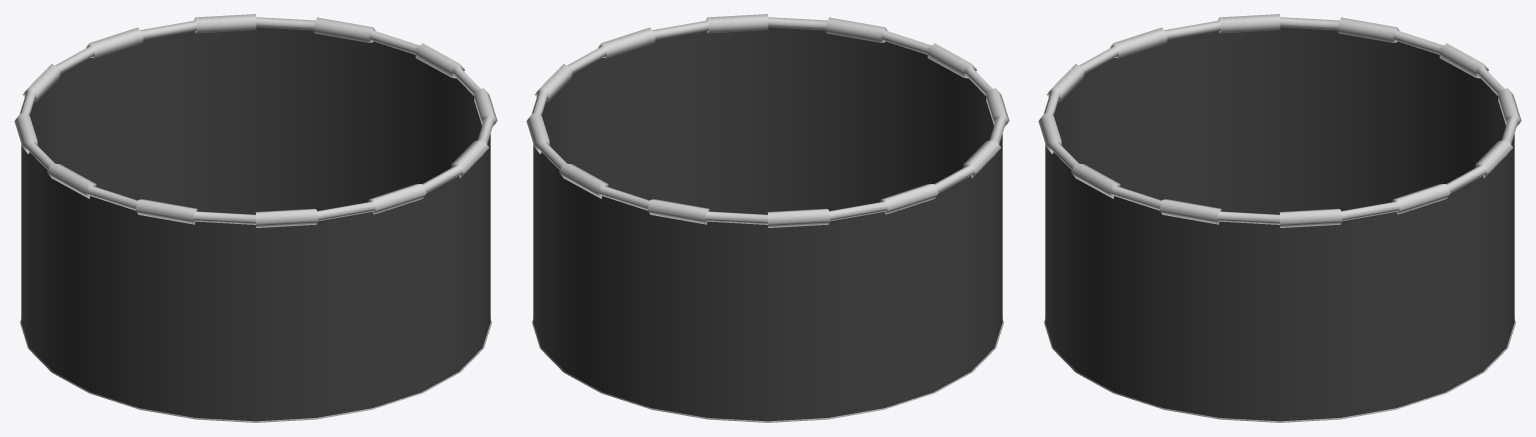
The model's file is fishfarm.fbx.
3 renders of one model, left to right at view 1: azimuth 30°, elevation 25°; view 2: azimuth 150°, elevation 25°; view 3: azimuth 270°, elevation 25°, orthographic.
Parts seen in each view (by area): view 1: fishfarm; view 2: fishfarm; view 3: fishfarm.
Boxes of the visible parts, x1,y1,x2,y2 form: fishfarm: [14, 14, 497, 422]; fishfarm: [526, 14, 1009, 422]; fishfarm: [1038, 14, 1521, 422].
Size of the model in its own units: 326 by 168 by 326.
2 materials, 1 textured.
